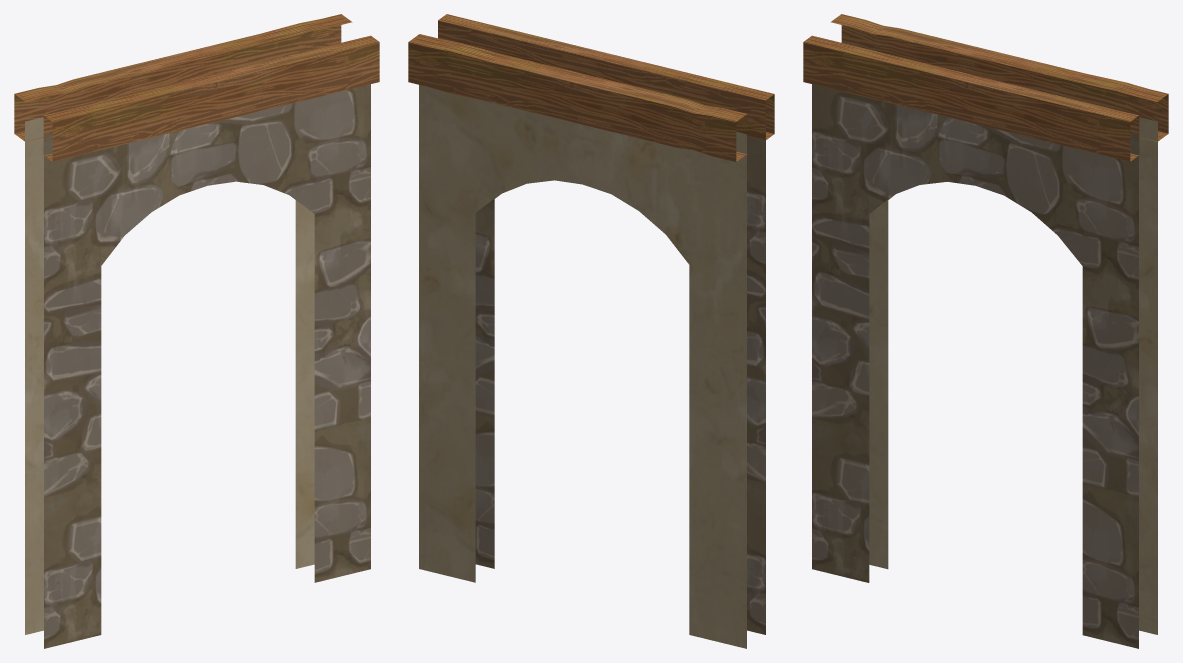
Rendered from Wall_UnevenBrick_Door_Round.glb.
The picture shows the model from 3 angles, left to right: view 1: azimuth 30°, elevation 25°; view 2: azimuth 150°, elevation 25°; view 3: azimuth 330°, elevation 25°; orthographic projection.
Visible parts, largest first — view 1: Wall_UnevenBrick_Door_Round; view 2: Wall_UnevenBrick_Door_Round; view 3: Wall_UnevenBrick_Door_Round.
Boxes of the visible parts, x1=… form: Wall_UnevenBrick_Door_Round: x1=14, y1=14, x2=379, y2=648; Wall_UnevenBrick_Door_Round: x1=408, y1=14, x2=774, y2=648; Wall_UnevenBrick_Door_Round: x1=803, y1=14, x2=1168, y2=648.
Bounding box in the file's own units: 2 × 3.12 × 0.4064.
3 materials, 3 textured.
